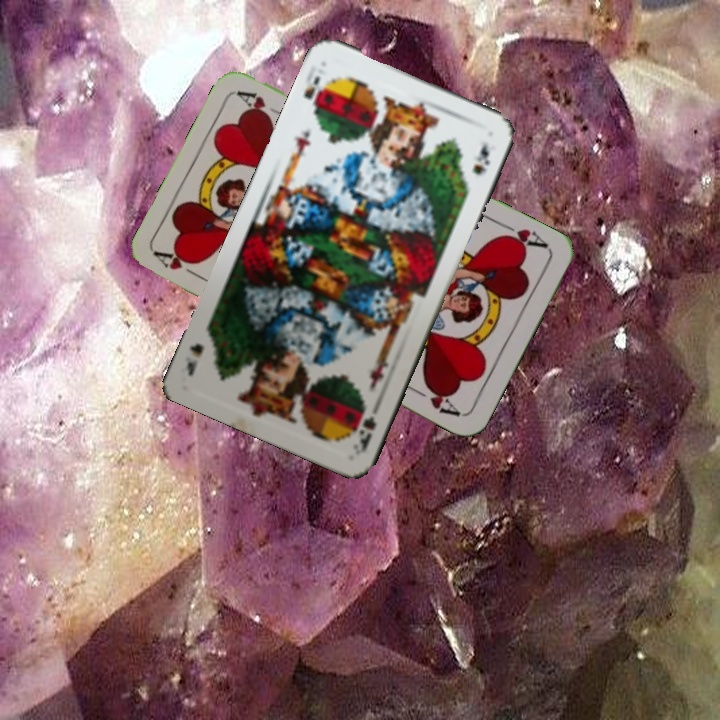HA: (152, 247, 207, 283), (495, 218, 551, 253)
SK: (348, 397, 384, 456), (299, 72, 331, 116)
